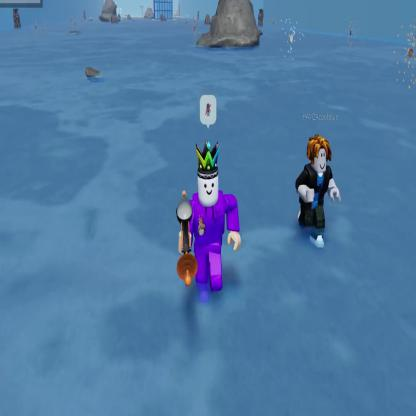Roblox-Avatar: (179, 139, 241, 306), (297, 134, 342, 249)
